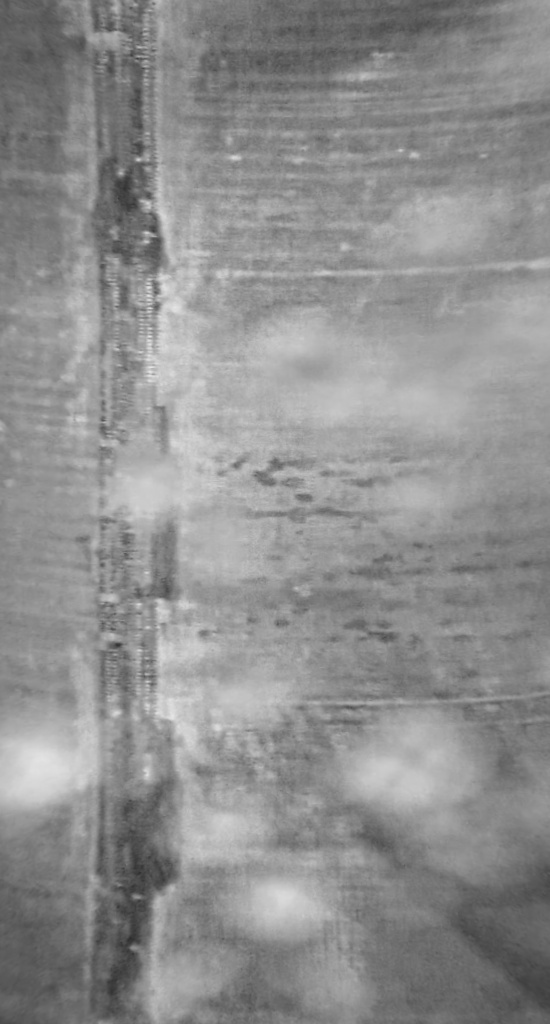splice: (77, 1, 206, 1019)
